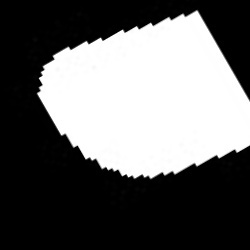spot: (37, 10, 249, 177)
